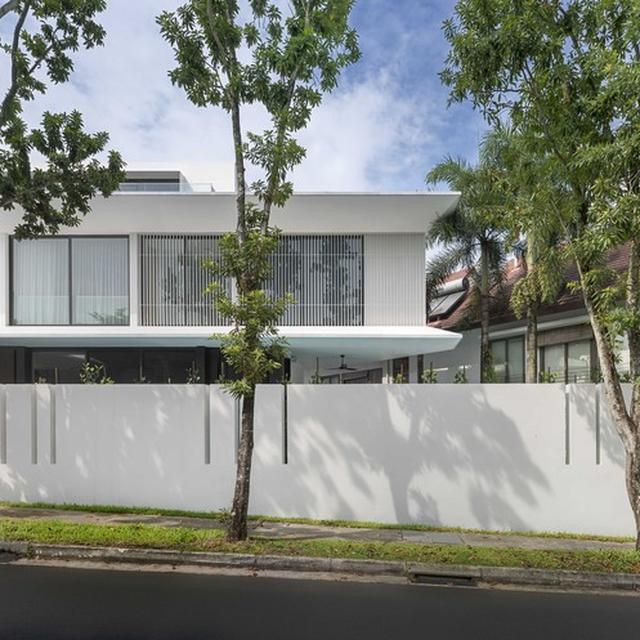building: (0, 165, 462, 382), (430, 222, 640, 381)
